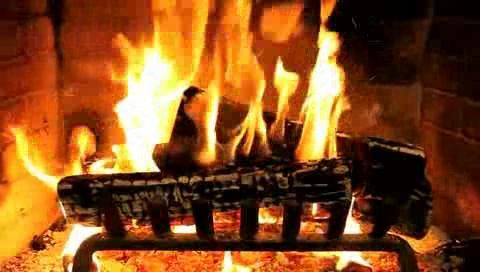fire: (3, 0, 377, 272)
